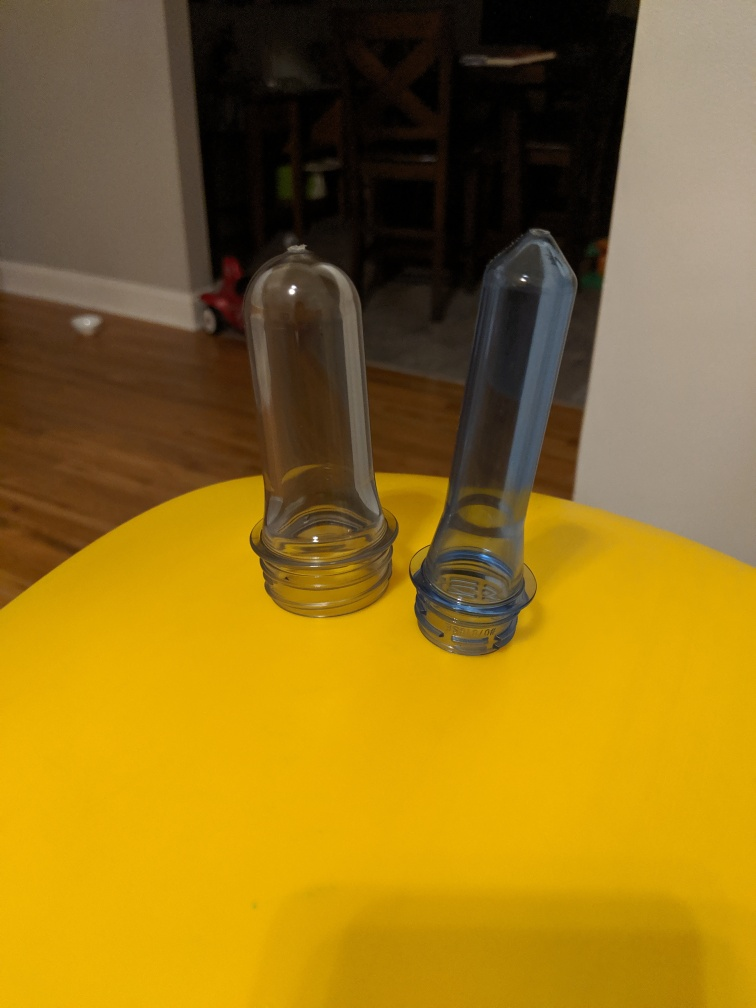preform: (405, 221, 582, 662), (230, 230, 410, 627)
